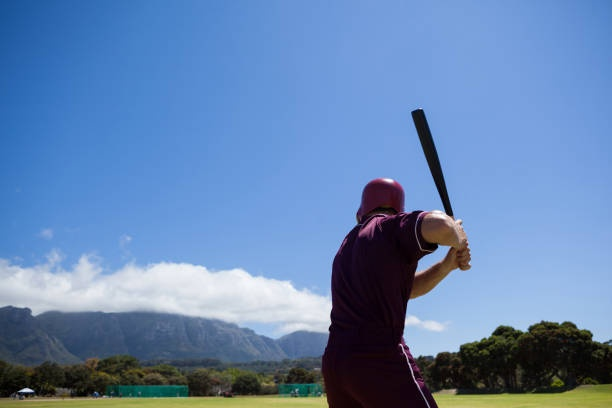bita: (408, 108, 467, 257)
